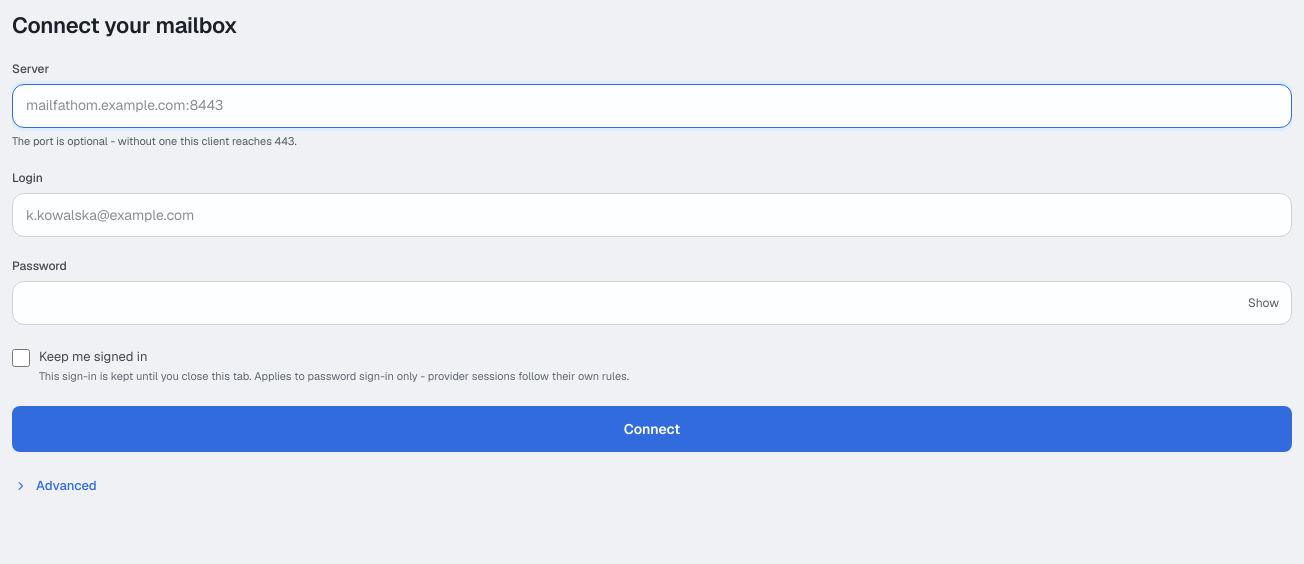
Test: SignIn › says what an address is when what was typed is not one
Type "my mail server" into the field labelled "Server" at (652, 106), box [26,84,1278,126]
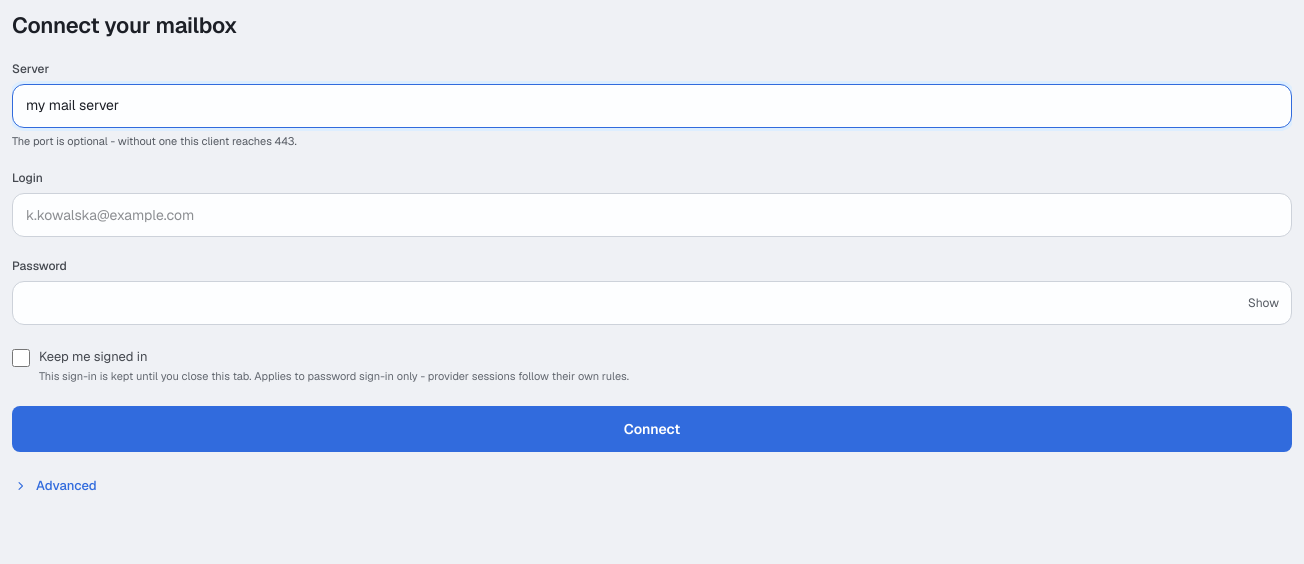
Click the button "Connect" at (652, 429), box [12,406,1292,452]
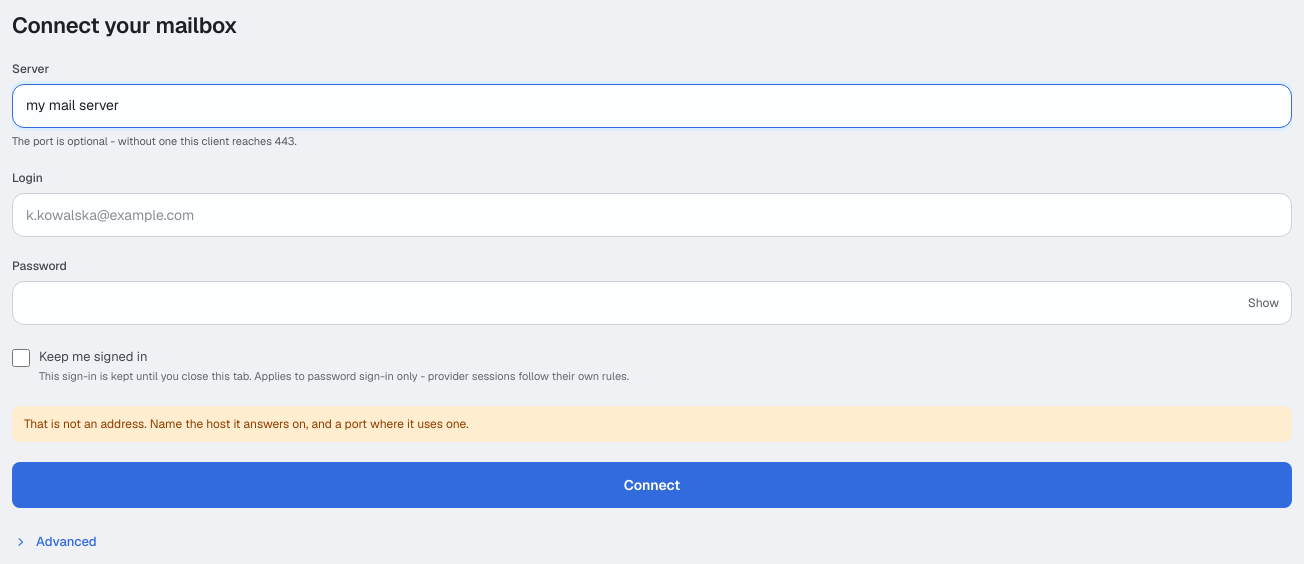
expect the message shows "That is not an address. Name the host it answers on, and a port where it uses one.": met, box [24,416,469,432]
